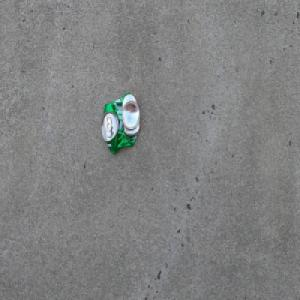SodaCan: (100, 92, 140, 155)
